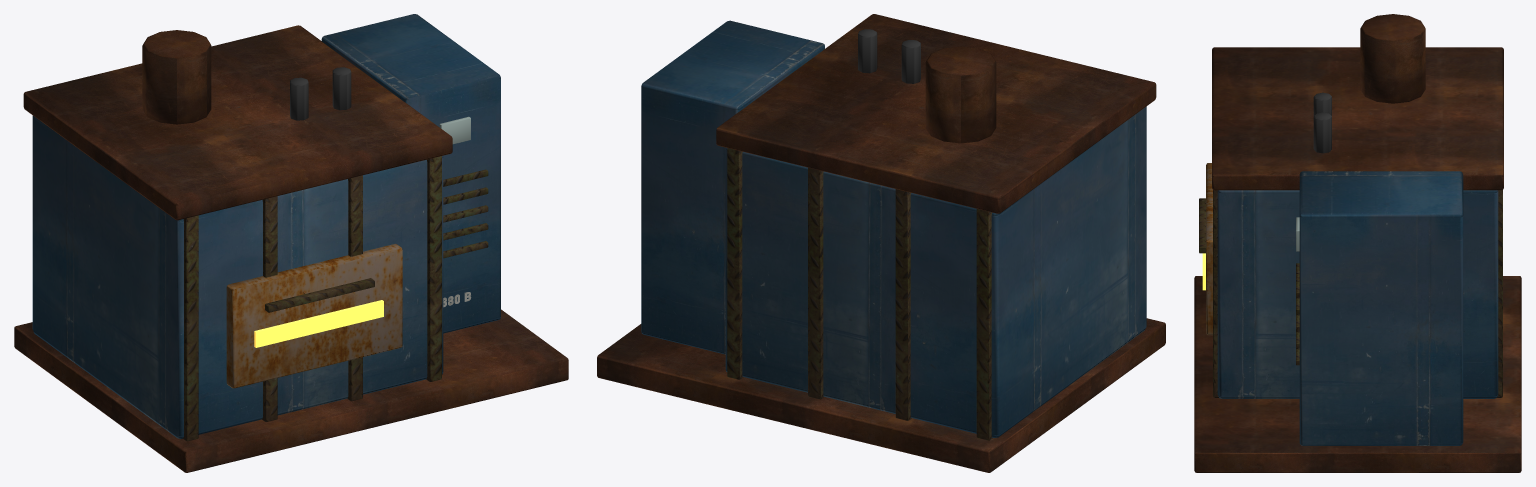
Rendered from deploy_efurnace.glb.
3 renders of one model, left to right at view 1: azimuth 30°, elevation 25°; view 2: azimuth 150°, elevation 25°; view 3: azimuth 270°, elevation 25°, orthographic. The views are drawn at different scales.
Parts seen in each view (by area): view 1: box.001, box.006, box, box.010, box.007, cyl, box.002, box.005, box.008, box.003, box.004, box.009 (+3 smaller); view 2: box.001, box.006, box.010, box, cyl, box.003, box.002, box.004, box.005, cyl.002, cyl.001; view 3: box.010, box.006, box.001, box, cyl, box.005, box.007, cyl.002, box.009, cyl.001.
Boxes of the visible parts, <box> form: box.001: <box>32,115,443,438</box>; box.006: <box>23,25,452,220</box>; box: <box>14,309,568,472</box>; box.010: <box>321,14,500,333</box>; box.007: <box>226,243,402,388</box>; cyl: <box>142,30,211,124</box>; box.002: <box>183,215,198,441</box>; box.005: <box>426,156,441,381</box>; box.008: <box>254,300,383,347</box>; box.003: <box>262,196,277,421</box>; box.004: <box>347,175,362,401</box>; box.009: <box>265,278,374,312</box>; box.001: <box>725,106,1146,437</box>; box.006: <box>716,14,1156,213</box>; box.010: <box>641,20,824,354</box>; box: <box>597,318,1165,472</box>; cyl: <box>925,46,996,143</box>; box.003: <box>895,189,911,420</box>; box.002: <box>976,209,992,440</box>; box.004: <box>808,167,823,399</box>; box.005: <box>727,148,742,379</box>; cyl.002: <box>858,29,877,73</box>; cyl.001: <box>901,40,920,83</box>; box.010: <box>1299,171,1463,445</box>; box.006: <box>1212,47,1503,190</box>; box.001: <box>1217,190,1498,398</box>; box: <box>1194,276,1521,472</box>; cyl: <box>1360,14,1425,103</box>; box.005: <box>1213,190,1502,397</box>; box.007: <box>1206,163,1212,335</box>; cyl.002: <box>1313,112,1331,153</box>; box.009: <box>1199,198,1205,253</box>; cyl.001: <box>1313,92,1331,116</box>.
Size of the model in its own units: 1.8 by 1.48 by 1.4.
8 materials, 5 textured.
